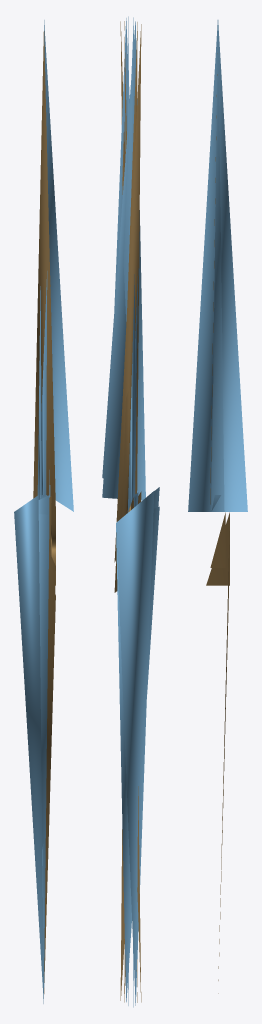
File: equip_weapon_rune_scimitar.glb
3 views of the same model, side by side, from view 1: azimuth 90°, elevation 25°; view 2: azimuth 150°, elevation 25°; view 3: azimuth 270°, elevation 25° (orthographic).
Parts seen in each view (by area): view 1: equip_weapon_rune_scimitar; view 2: equip_weapon_rune_scimitar; view 3: equip_weapon_rune_scimitar.
Part boxes in pixels (x1=…): equip_weapon_rune_scimitar: x1=14, y1=20, x2=73, y2=1003; equip_weapon_rune_scimitar: x1=102, y1=16, x2=159, y2=1007; equip_weapon_rune_scimitar: x1=188, y1=20, x2=247, y2=993.
Size of the model in its own units: 0.11 by 2 by 0.11.
